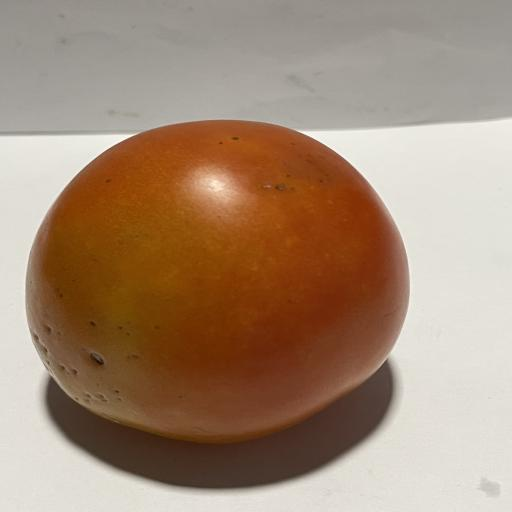unripe: (26, 120, 409, 442)
